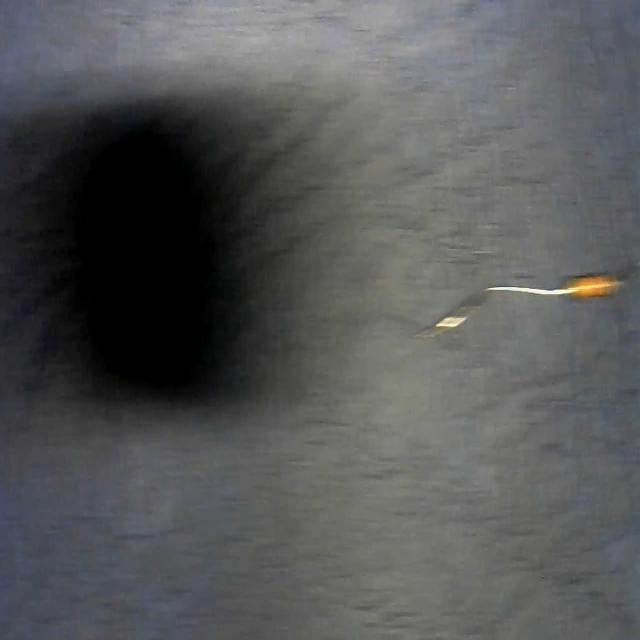resistor: (442, 264, 640, 308)
